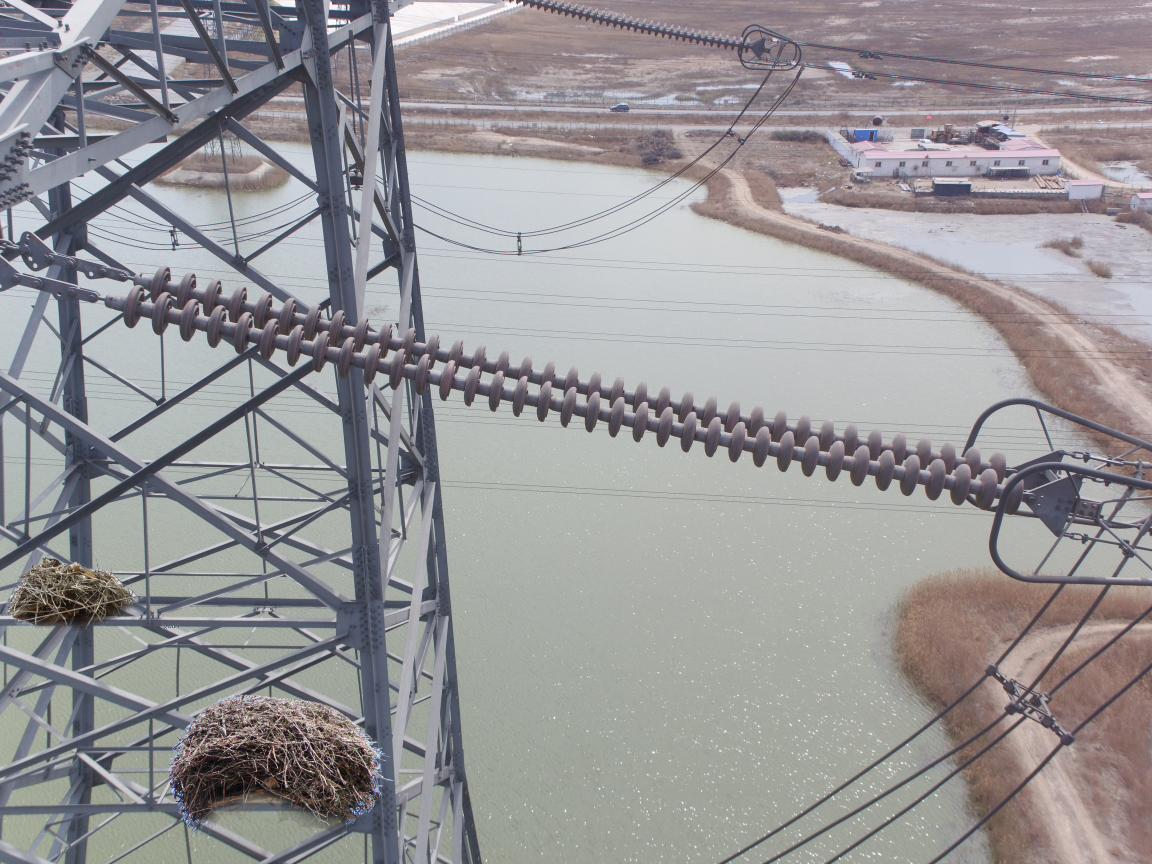nest: (160, 691, 390, 831), (9, 545, 144, 644)
